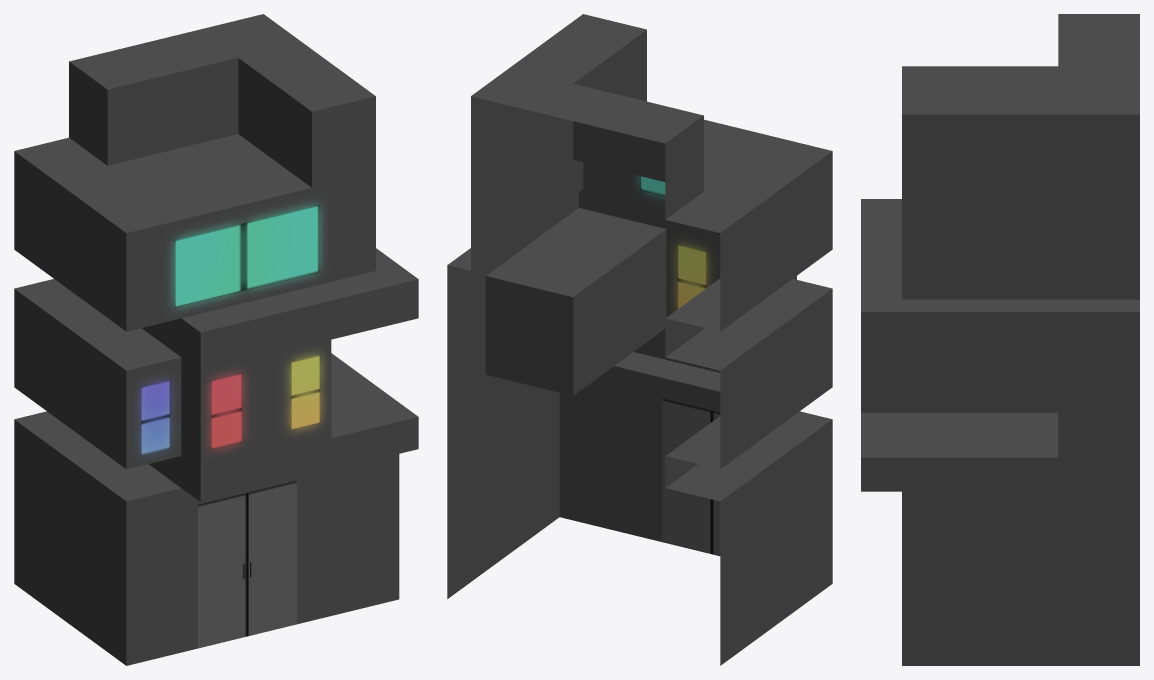
Rendered from building1.fbx.
3 views of the same model, side by side, from view 1: azimuth 30°, elevation 25°; view 2: azimuth 150°, elevation 25°; view 3: azimuth 270°, elevation 25° (orthographic). The views are drawn at different scales.
Visible parts, largest first — view 1: building1; view 2: building1; view 3: building1.
Boxes of the visible parts, bbox=[...] form: building1: bbox=[14, 14, 418, 665]; building1: bbox=[447, 14, 832, 665]; building1: bbox=[861, 14, 1139, 665].
Size of the model in its own units: 2.81 by 5 by 2.34.
